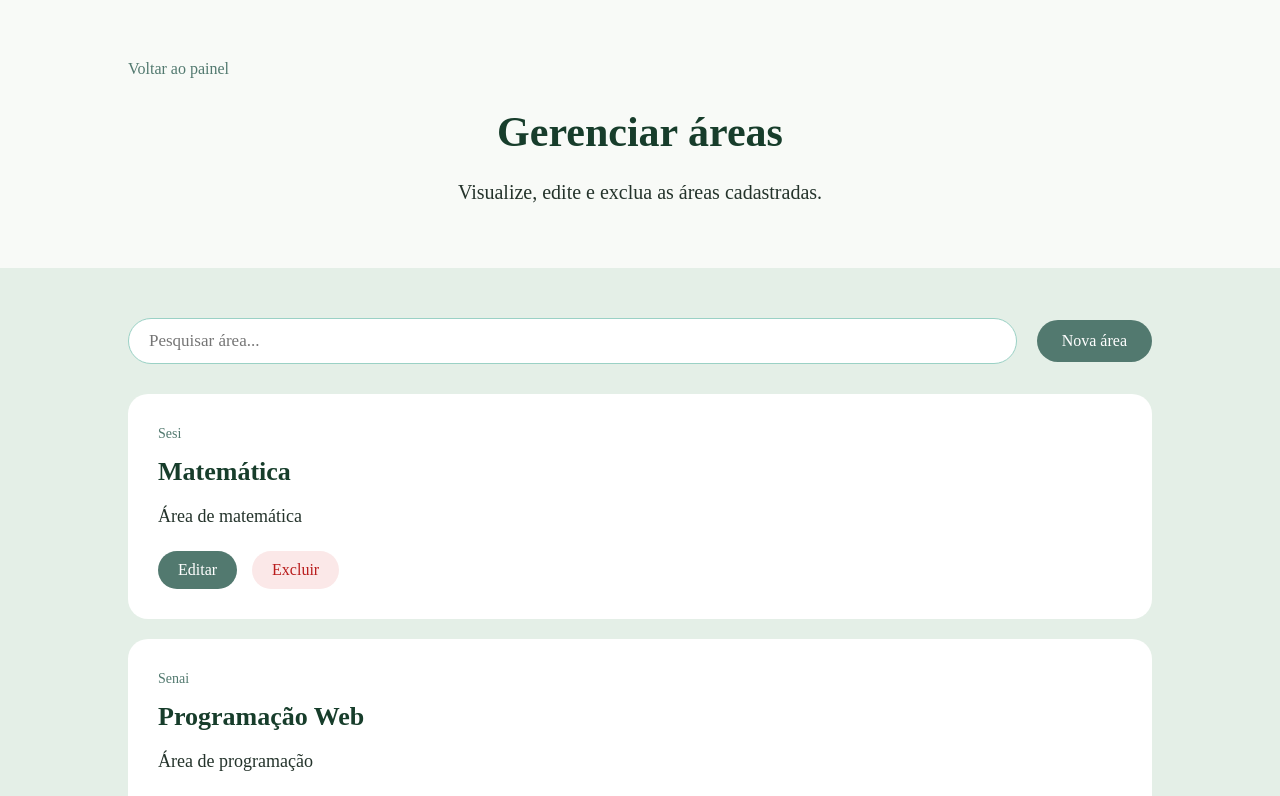
Test: Página GerenciarAreas › Deve excluir uma área com sucesso
Click the button "Excluir" below "Área de matemática": coordinates (296, 570) [252,551,339,589]
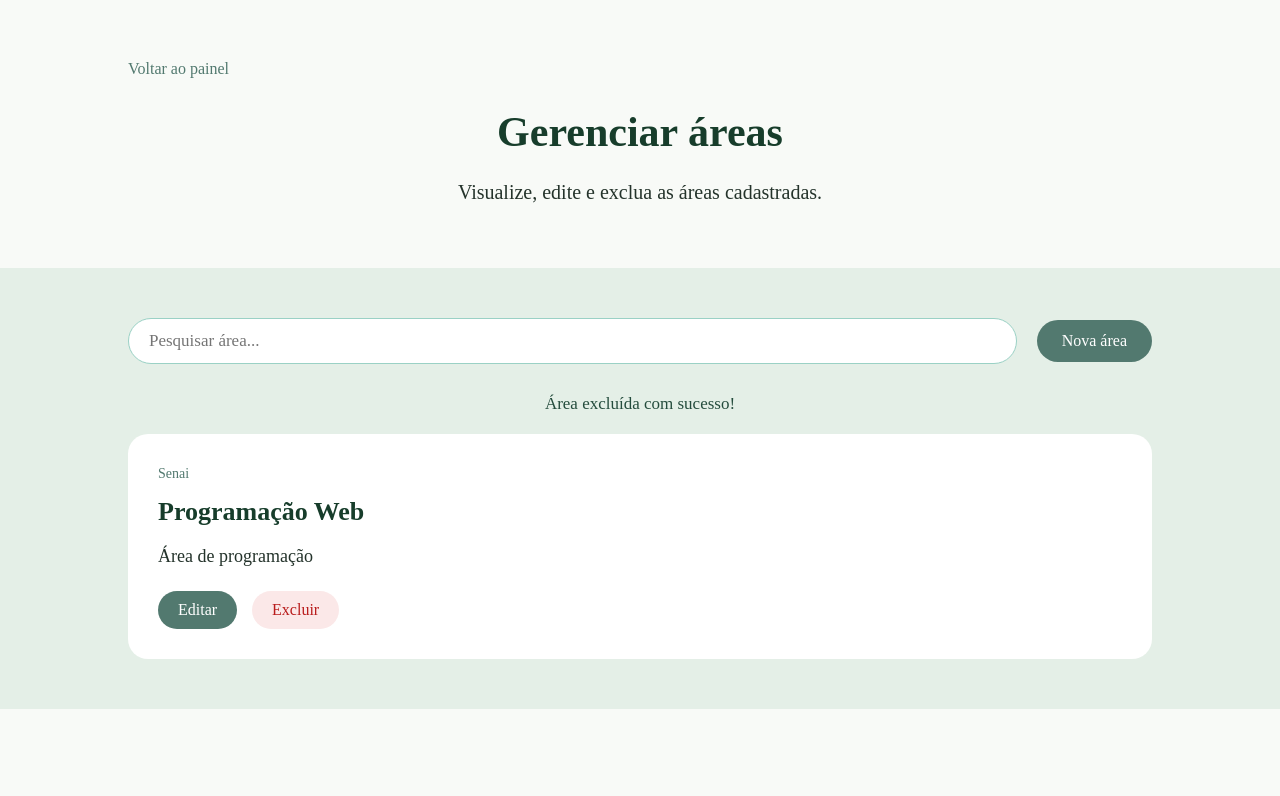
Expected: the text "Área excluída com sucesso!" is shown, [545,394,735,413]
Expected: the heading "Matemática" is gone
